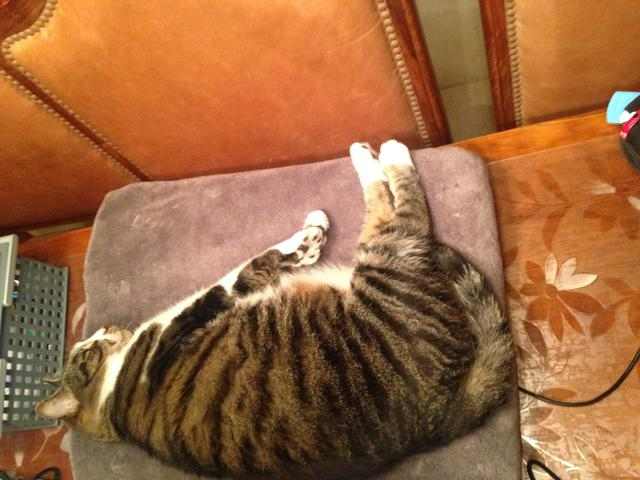playdoh: (38, 136, 511, 478)
